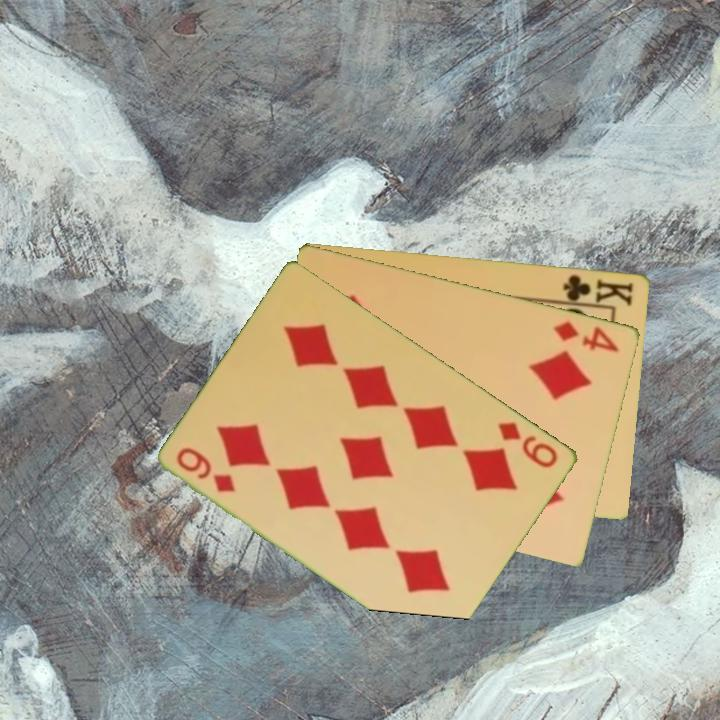4d: (550, 317, 622, 355)
9d: (495, 418, 562, 471), (173, 443, 239, 496)
Kc: (554, 271, 636, 309)
